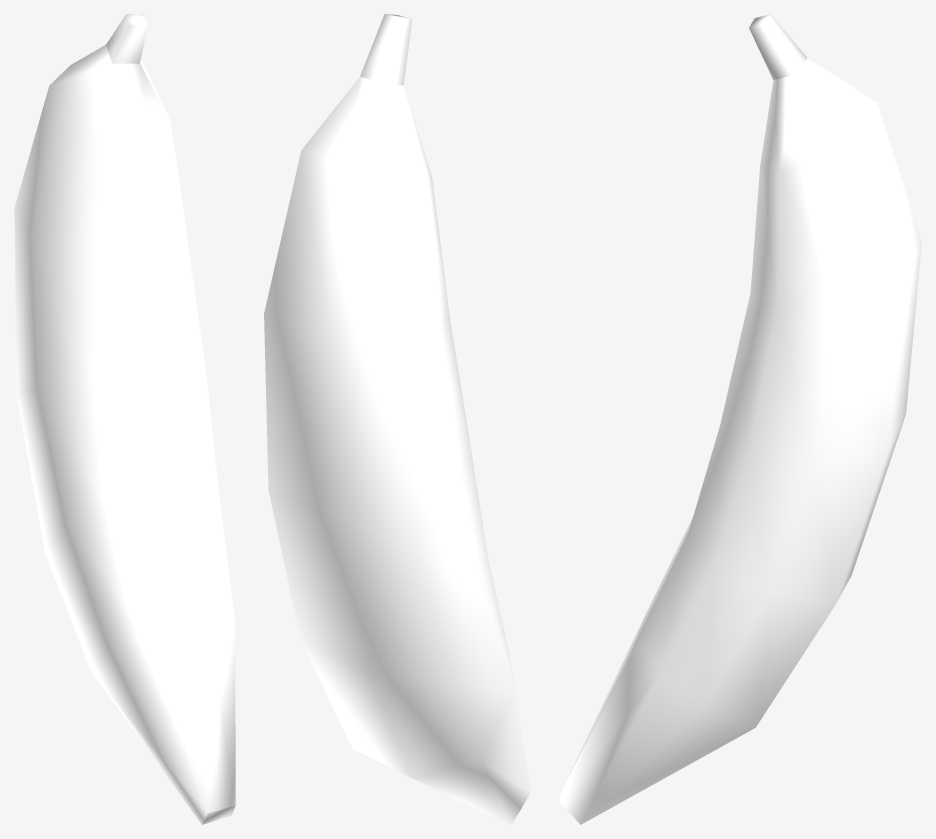
The model's file is BananaSilver.glb.
The picture shows the model from 3 angles, left to right: view 1: azimuth 30°, elevation 25°; view 2: azimuth 150°, elevation 25°; view 3: azimuth 270°, elevation 25°; orthographic projection. The views are drawn at different scales.
Parts seen in each view (by area): view 1: BananaSingleSilver; view 2: BananaSingleSilver; view 3: BananaSingleSilver.
Boxes of the visible parts, left/top/right/bottom form: BananaSingleSilver: left=14, top=14, right=235, bottom=824; BananaSingleSilver: left=264, top=14, right=530, bottom=824; BananaSingleSilver: left=559, top=14, right=921, bottom=824.
Size of the model in its own units: 0.0741 by 0.3539 by 0.1443.
Materials: 1 (1 with a texture image).
